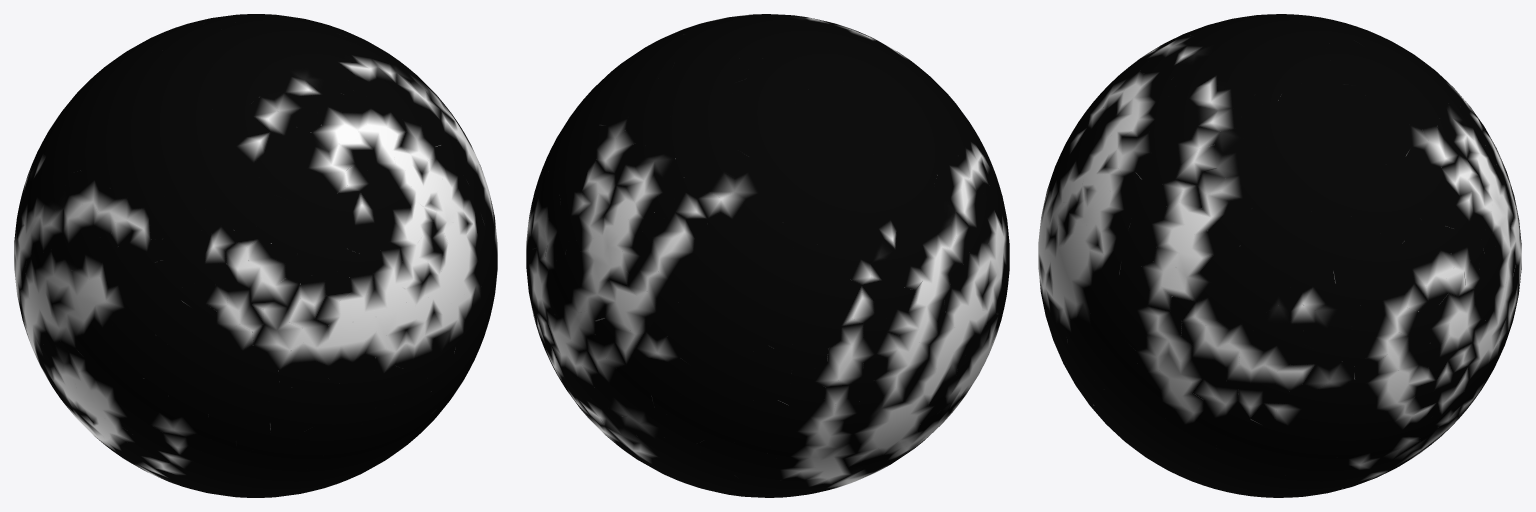
The model's file is planet_earth_clouds.fbx.
The picture shows the model from 3 angles, left to right: view 1: azimuth 30°, elevation 25°; view 2: azimuth 150°, elevation 25°; view 3: azimuth 270°, elevation 25°; orthographic projection.
Visible parts, largest first — view 1: planet_earth_clouds; view 2: planet_earth_clouds; view 3: planet_earth_clouds.
Boxes of the visible parts, left/top/right/bottom form: planet_earth_clouds: left=14, top=14, right=497, bottom=497; planet_earth_clouds: left=526, top=14, right=1009, bottom=497; planet_earth_clouds: left=1038, top=14, right=1521, bottom=497.
Size of the model in its own units: 191 by 191 by 191.
